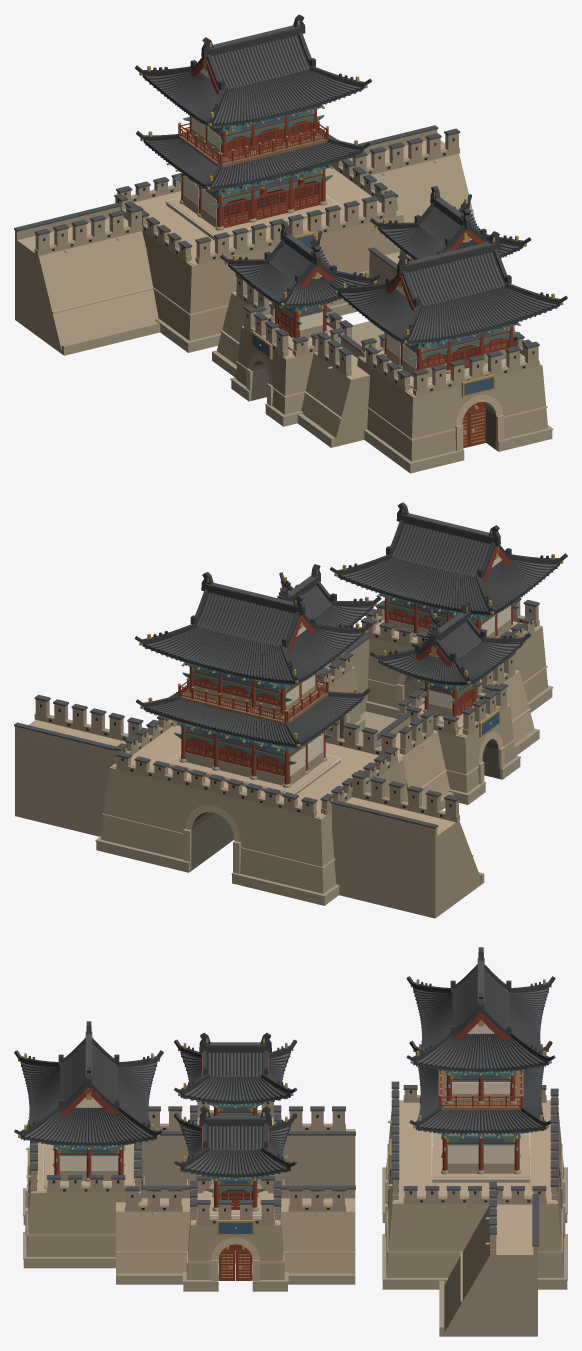
3 renders of one model, top to bottom at view 1: azimuth 30°, elevation 25°; view 2: azimuth 150°, elevation 25°; view 3: azimuth 270°, elevation 25°, orthographic.
Parts seen in each view (by area): view 1: J04; view 2: J04; view 3: J04.
Boxes of the visible parts, <box> form: J04: <box>14,14,567,473</box>; J04: <box>14,502,567,918</box>; J04: <box>14,947,567,1336</box>.
Size of the model in its own units: 49 by 29.13 by 55.53.
